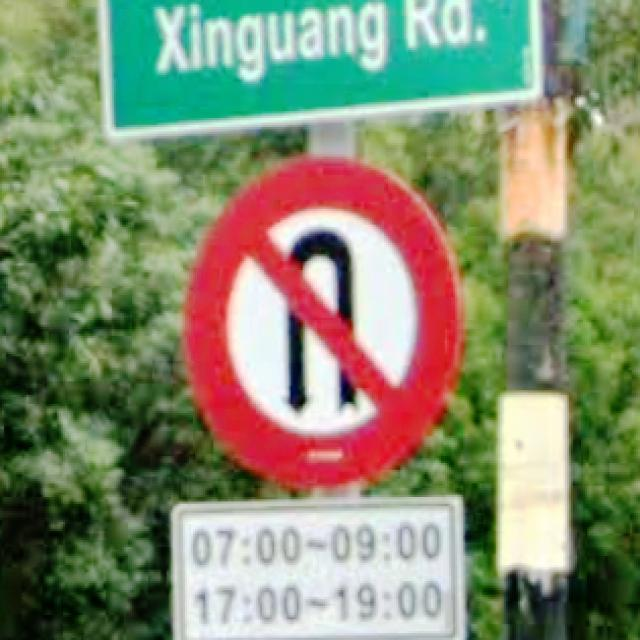nouturn: (179, 150, 467, 490)
